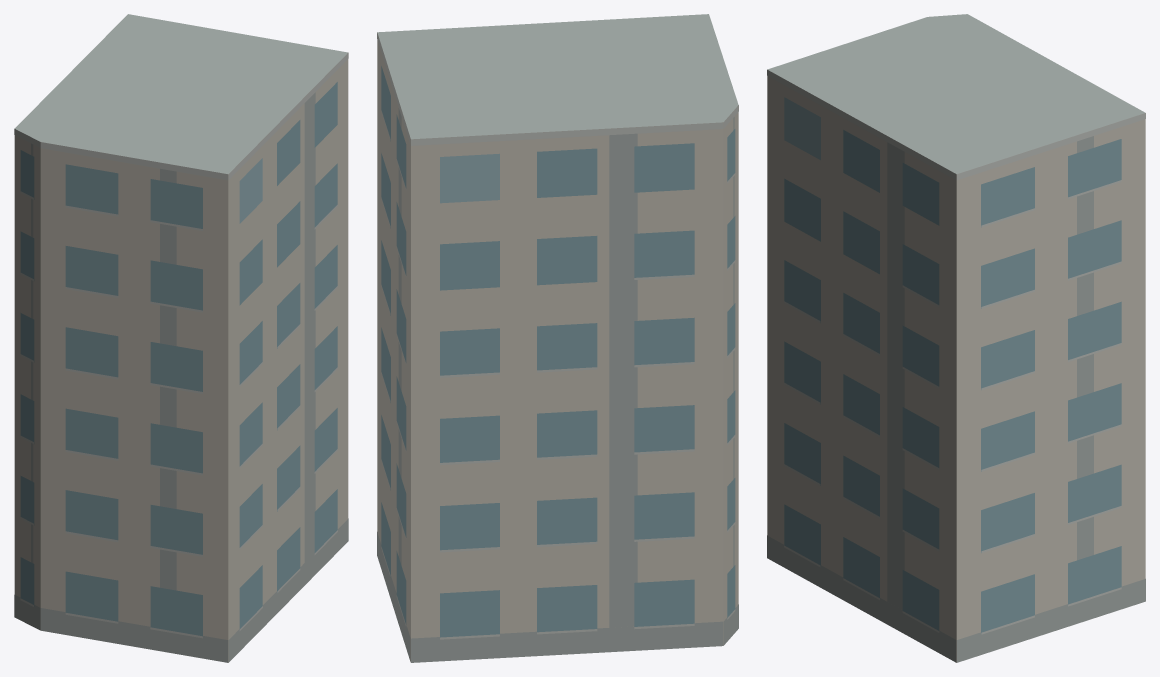
The model's file is survey-upis-33034358.glb.
3 renders of one model, left to right at view 1: azimuth 30°, elevation 25°; view 2: azimuth 150°, elevation 25°; view 3: azimuth 270°, elevation 25°, orthographic. The views are drawn at different scales.
Parts seen in each view (by area): view 1: survey-upis-33034358.tmp; view 2: survey-upis-33034358.tmp; view 3: survey-upis-33034358.tmp.
Boxes of the visible parts, bbox=[...] form: survey-upis-33034358.tmp: bbox=[14, 14, 348, 662]; survey-upis-33034358.tmp: bbox=[377, 14, 738, 662]; survey-upis-33034358.tmp: bbox=[767, 14, 1145, 662].
Size of the model in its own units: 13.52 by 19.2 by 13.49.
